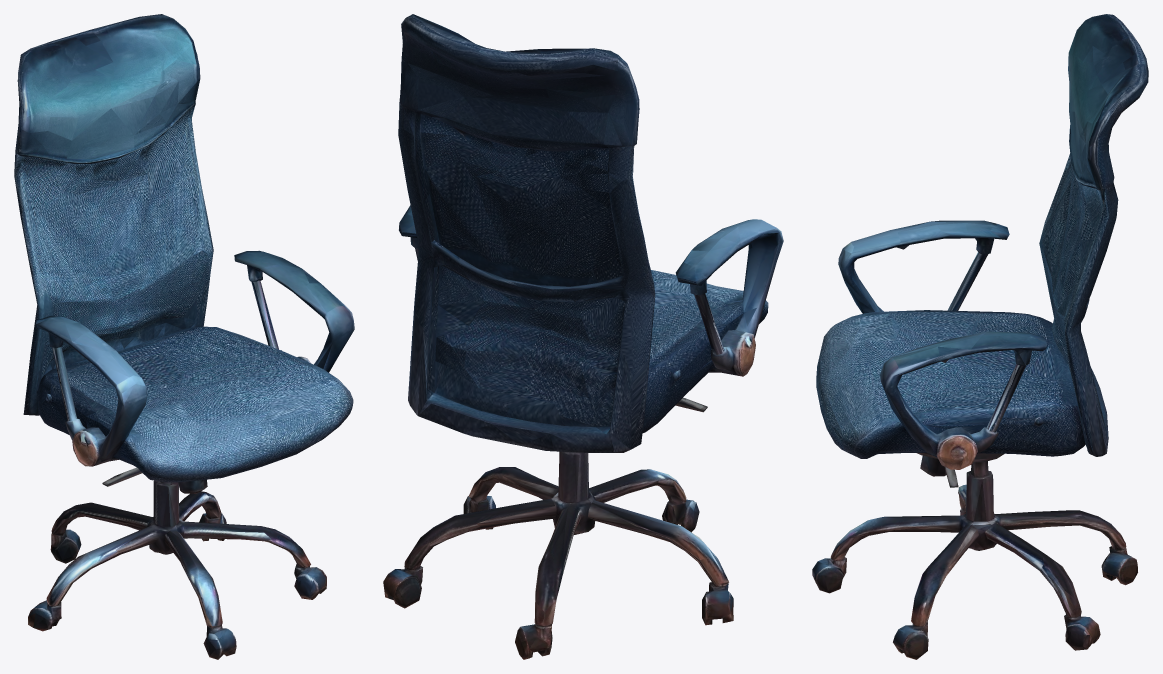
The model's file is silla.fbx.
3 renders of one model, left to right at view 1: azimuth 30°, elevation 25°; view 2: azimuth 150°, elevation 25°; view 3: azimuth 270°, elevation 25°, orthographic. The views are drawn at different scales.
Visible parts, largest first — view 1: tripo_node_23e62d81; view 2: tripo_node_23e62d81; view 3: tripo_node_23e62d81.
Part boxes in pixels (x1,y1,x2,y2): tripo_node_23e62d81: (14, 14, 354, 659); tripo_node_23e62d81: (383, 14, 783, 659); tripo_node_23e62d81: (812, 14, 1148, 659).
Size of the model in its own units: 55.34 by 98.12 by 54.94.
